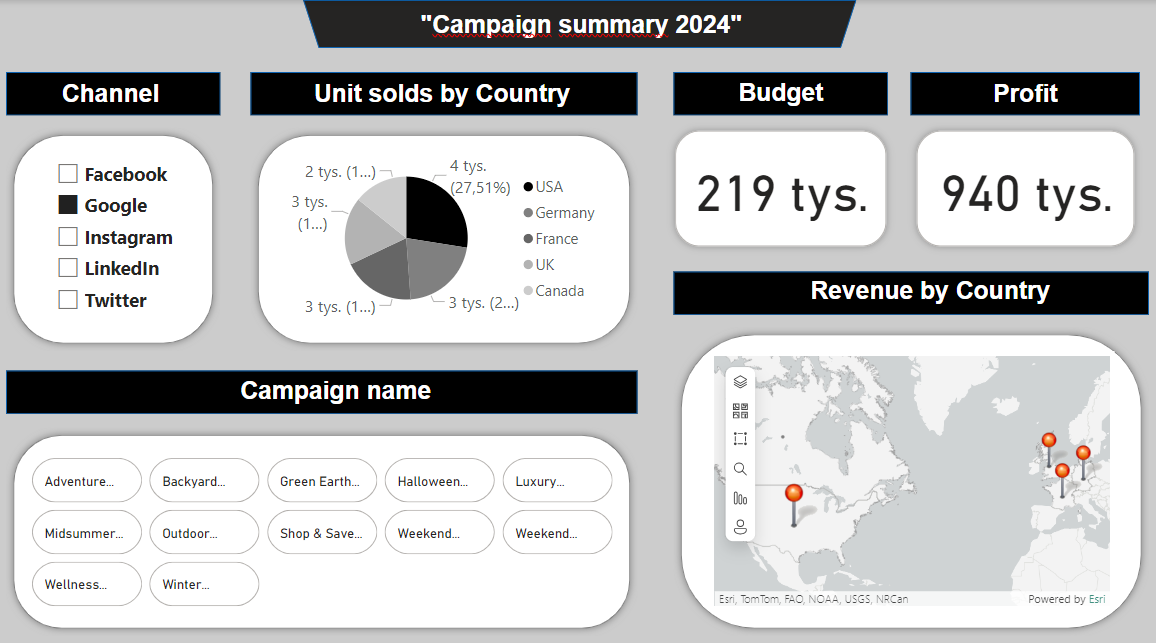

Layout of this report page (visuals, bound fields, positions):
{"tool":"powerbi","page":{"name":"Campaign summary","canvas":[1280,720],"ordinal":0},"visuals":[{"type":"cardVisual","fields":{"Data":["Sum(campaigns_data.Budget)"]},"box":[725.4,124.7,260.7,157.1],"z":0},{"type":"cardVisual","fields":{"Data":["Sum(sales_data.Profit)"]},"box":[986.1,124.7,267.2,157.1],"z":1000},{"type":"shape","box":[740,77.7,231.5,47],"z":2000},{"type":"shape","box":[995.8,77.7,247.7,47],"z":3000},{"type":"textbox","box":[799.9,79.3,111.7,45.3],"z":4000},{"type":"textbox","box":[995.8,81,247.7,45.3],"z":5000},{"type":"shape","box":[283.4,77.7,417.8,47],"z":6000},{"type":"shape","box":[19.4,399.9,681.7,47],"z":7000},{"type":"shape","box":[19.4,77.7,231.5,47],"z":8000},{"type":"textbox","box":[267.2,401.6,228.3,45.3],"z":9000},{"type":"textbox","box":[74.5,81,124.7,45.3],"z":10000},{"type":"shape","box":[740,293.1,513.3,47],"z":11000},{"type":"textbox","box":[882.5,293.1,309.3,47],"z":12000},{"type":"textbox","box":[346.5,81,320.6,45.3],"z":13000},{"type":"shape","box":[340,0,597.5,51.8],"z":14000},{"type":"textbox","box":[387,6.5,506.8,45.3],"z":15000},{"type":"shape","box":[19.4,137.6,231.5,241.3],"z":16000},{"type":"slicer","fields":{"Values":["campaigns_data.Channel"]},"box":[63.1,165.2,147.3,187.8],"z":17000},{"type":"shape","box":[740,353,513.3,333.6],"z":18000},{"type":"esriVisual","fields":{"Location":["sales_data.Country"],"Size":["Sum(sales_data.Revenue)"]},"box":[778.8,378.9,437.2,280.1],"z":19000},{"type":"shape","box":[19.4,461.5,681.7,225.1],"z":20000},{"type":"advancedSlicerVisual","fields":{"Values":["campaigns_data.Campaign_Name"]},"box":[42.1,489,638,170],"z":21000},{"type":"shape","box":[283.4,137.6,417.8,241.3],"z":22000},{"type":"pieChart","fields":{"Category":["sales_data.Country"],"Y":["Sum(sales_data.Units_Sold)"]},"box":[320.6,160.3,348.1,192.7],"z":23000}]}

Visuals, with their boxes in screenshot pixels (x1, y1, x2, y2), scaled from the page's 1280x720 canvas onto the 1156x643 screenshot:
cardVisual - Sum(campaigns_data.Budget): <bbox>655, 111, 891, 252</bbox>
cardVisual - Sum(sales_data.Profit): <bbox>891, 111, 1132, 252</bbox>
shape: <bbox>668, 69, 877, 111</bbox>
shape: <bbox>899, 69, 1123, 111</bbox>
textbox: <bbox>722, 71, 823, 111</bbox>
textbox: <bbox>899, 72, 1123, 113</bbox>
shape: <bbox>256, 69, 633, 111</bbox>
shape: <bbox>18, 357, 633, 399</bbox>
shape: <bbox>18, 69, 227, 111</bbox>
textbox: <bbox>241, 359, 447, 399</bbox>
textbox: <bbox>67, 72, 180, 113</bbox>
shape: <bbox>668, 262, 1132, 304</bbox>
textbox: <bbox>797, 262, 1076, 304</bbox>
textbox: <bbox>313, 72, 602, 113</bbox>
shape: <bbox>307, 0, 847, 46</bbox>
textbox: <bbox>350, 6, 807, 46</bbox>
shape: <bbox>18, 123, 227, 338</bbox>
slicer - campaigns_data.Channel: <bbox>57, 148, 190, 315</bbox>
shape: <bbox>668, 315, 1132, 613</bbox>
esriVisual - sales_data.Country x Sum(sales_data.Revenue): <bbox>703, 338, 1098, 589</bbox>
shape: <bbox>18, 412, 633, 613</bbox>
advancedSlicerVisual - campaigns_data.Campaign_Name: <bbox>38, 437, 614, 589</bbox>
shape: <bbox>256, 123, 633, 338</bbox>
pieChart - sales_data.Country x Sum(sales_data.Units_Sold): <bbox>290, 143, 604, 315</bbox>
